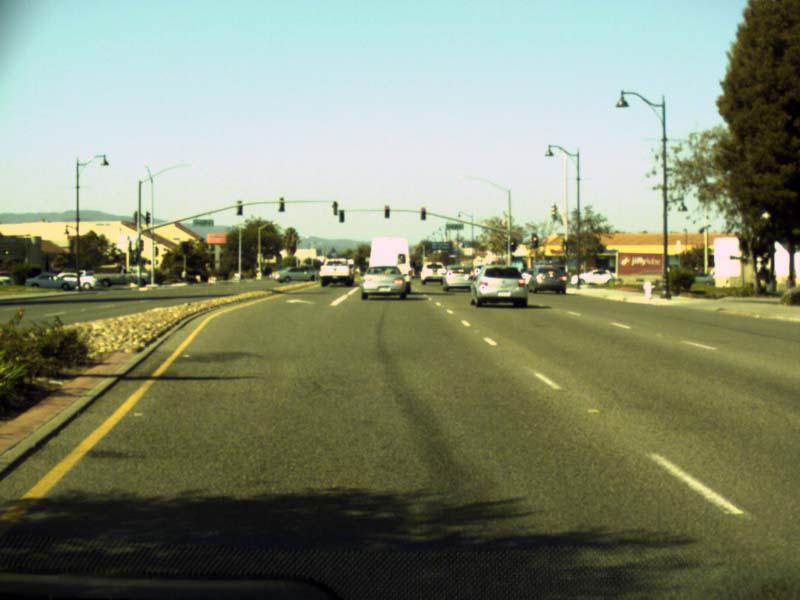Red: (532, 233, 538, 248), (420, 207, 426, 220), (509, 239, 515, 251), (384, 205, 389, 218)
